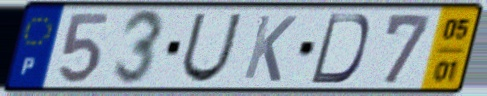3: (109, 6, 168, 91)
5: (53, 10, 116, 85)
7: (382, 11, 434, 86)
D: (307, 12, 373, 86)
K: (240, 12, 300, 85)
U: (178, 11, 246, 85)
